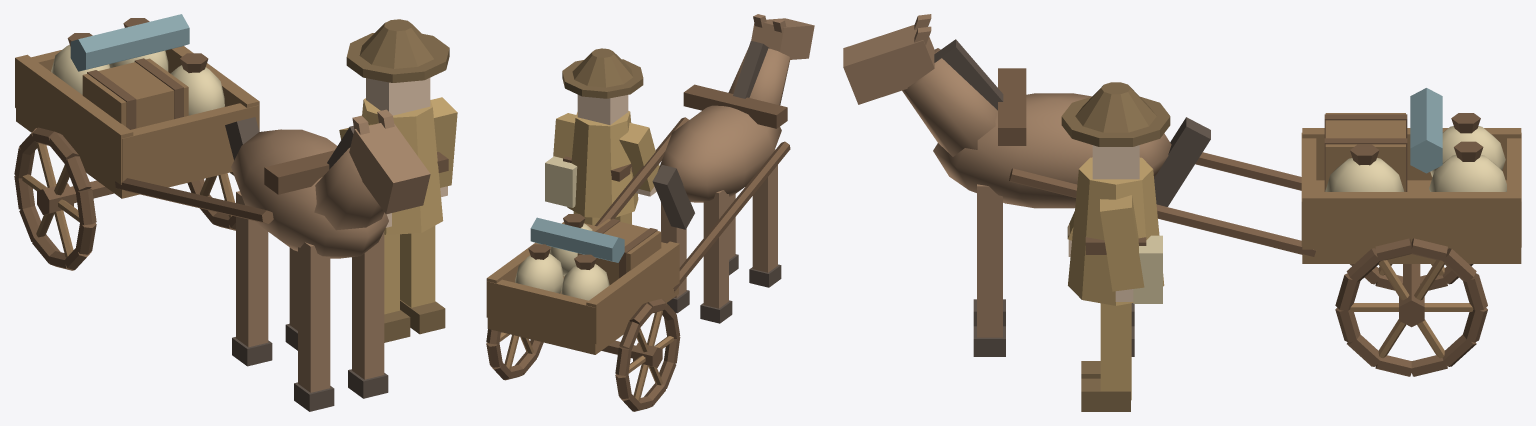
Rendered from troop-merchant.glb.
The picture shows the model from 3 angles, left to right: view 1: azimuth 30°, elevation 25°; view 2: azimuth 150°, elevation 25°; view 3: azimuth 270°, elevation 25°; orthographic projection. The views are drawn at different scales.
Parts seen in each view (by area): view 1: horse_body, cart_side, cart_end, horse_head, leg_fl, leg_fr, leg_bl, crate, merchant_torso, fabric_roll, horse_neck, merchant_hat_crown (+34 smaller); view 2: horse_body, merchant_torso, cart_end.001, cart_side, leg_bl, fabric_roll, leg_fl, cart_shaft, harness, cart_floor, horse_head, crate (+27 smaller); view 3: cart_side.001, horse_body, merchant_torso, horse_neck, horse_head, leg_fr, cart_shaft.001, crate, merchant_arm_r, merchant_hat_crown, merchant_leg_r, fabric_roll (+19 smaller).
Part boxes in pixels (box(x1,y1,x2,y2)): horse_body: box(231, 129, 388, 258); cart_side: box(15, 54, 133, 184); cart_end: box(122, 103, 258, 182); horse_head: box(349, 123, 430, 214); leg_fl: box(298, 242, 330, 392); leg_fr: box(352, 231, 384, 379); leg_bl: box(236, 191, 268, 347); crate: box(82, 58, 188, 128); merchant_torso: box(362, 98, 443, 234); fabric_roll: box(70, 14, 189, 71); horse_neck: box(314, 147, 384, 230); merchant_hat_crown: box(359, 19, 436, 68); horse_body: box(657, 105, 781, 202); merchant_torso: box(567, 111, 638, 217); cart_end.001: box(487, 279, 595, 342); cart_side: box(586, 241, 679, 343); leg_bl: box(703, 190, 728, 308); fabric_roll: box(530, 217, 624, 262); leg_fl: box(752, 149, 777, 272); cart_shaft: box(673, 141, 790, 291); harness: box(683, 84, 787, 128); cart_floor: box(487, 276, 678, 354); horse_head: box(751, 18, 814, 59); crate: box(577, 219, 661, 284); cart_side.001: box(1302, 192, 1521, 249); horse_body: box(933, 93, 1171, 208); merchant_torso: box(1068, 157, 1164, 305); horse_neck: box(902, 48, 997, 156); horse_head: box(843, 25, 934, 104); leg_fr: box(977, 184, 1002, 337); cart_shaft.001: box(1009, 168, 1315, 256); crate: box(1325, 113, 1405, 191); merchant_arm_r: box(1100, 195, 1144, 291); merchant_hat_crown: box(1075, 82, 1156, 132); merchant_leg_r: box(1100, 303, 1131, 400); fabric_roll: box(1410, 88, 1442, 173).
Bounding box in the file's own units: 0.255 × 0.2804 × 0.5486.
